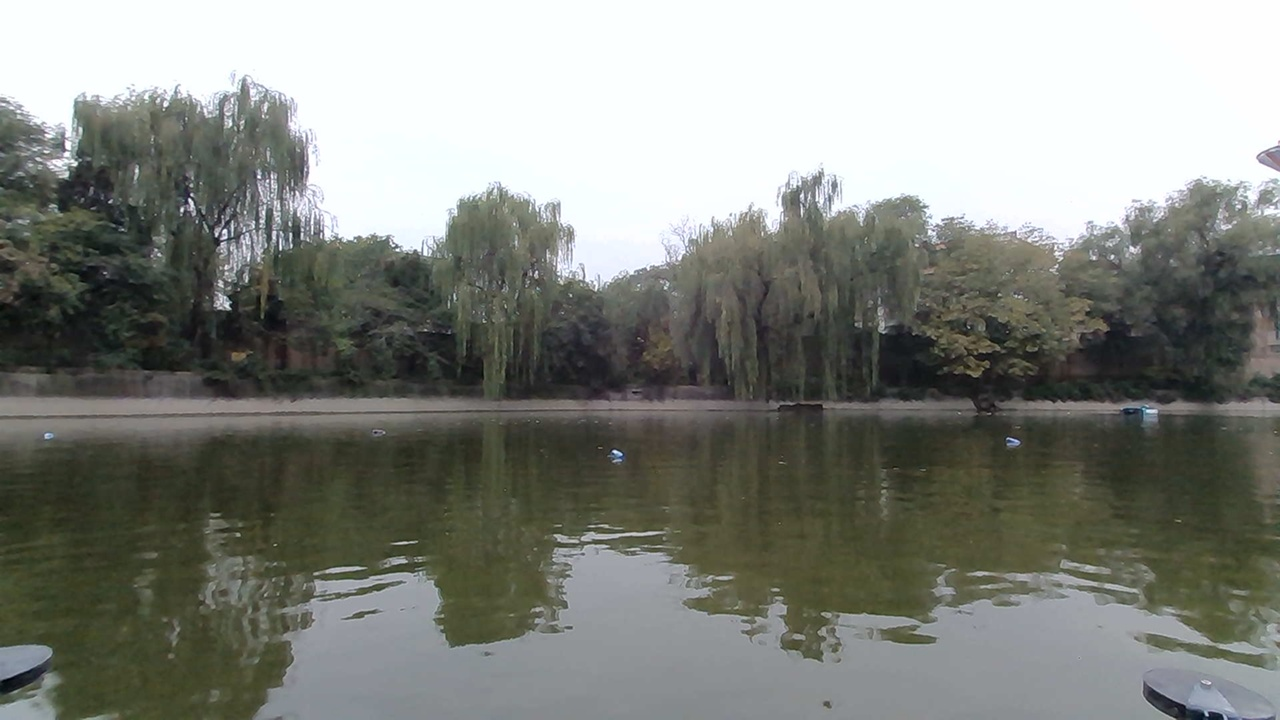bottle: (591, 441, 636, 468), (31, 422, 67, 454), (373, 417, 406, 440), (997, 429, 1028, 453)
